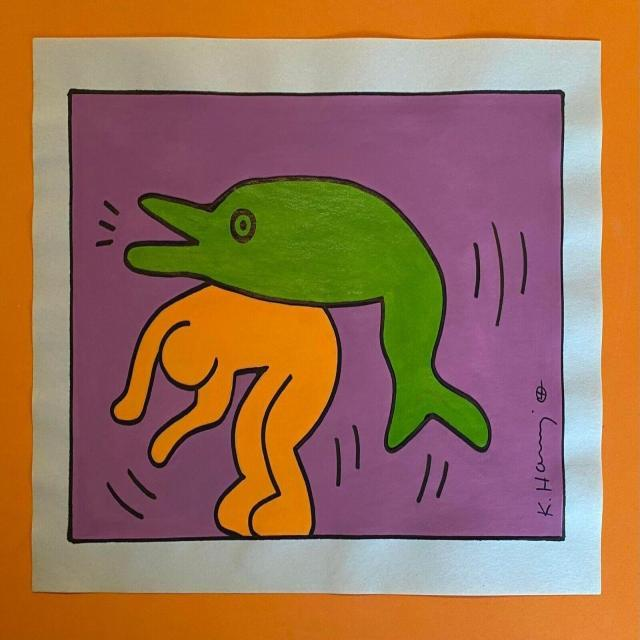painting: (32, 38, 602, 593)
